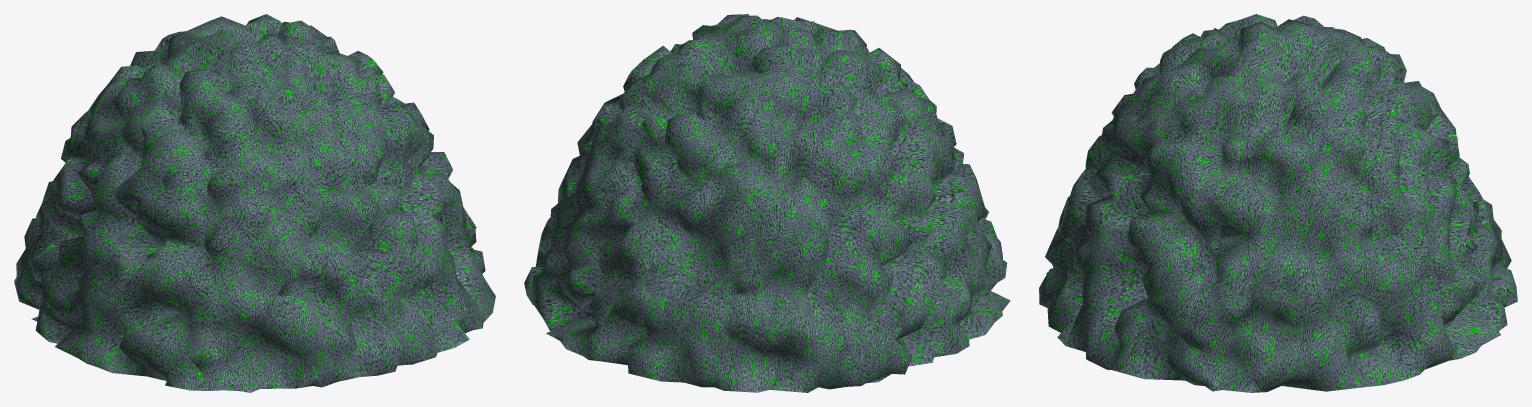
Rendered from coralBrain2.obj.
3 renders of one model, left to right at view 1: azimuth 30°, elevation 25°; view 2: azimuth 150°, elevation 25°; view 3: azimuth 270°, elevation 25°, orthographic.
Visible parts, largest first — view 1: Porites_furcata; view 2: Porites_furcata; view 3: Porites_furcata.
Part boxes in pixels (x1=…): Porites_furcata: x1=14, y1=14, x2=495, y2=392; Porites_furcata: x1=524, y1=14, x2=1010, y2=392; Porites_furcata: x1=1039, y1=14, x2=1517, y2=392.
Size of the model in its own units: 582 by 366 by 578.
